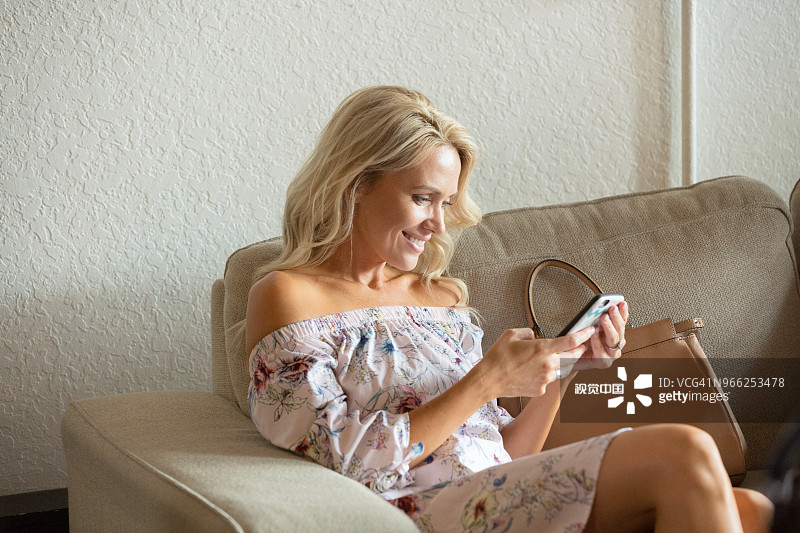reading: (462, 289, 637, 406)
